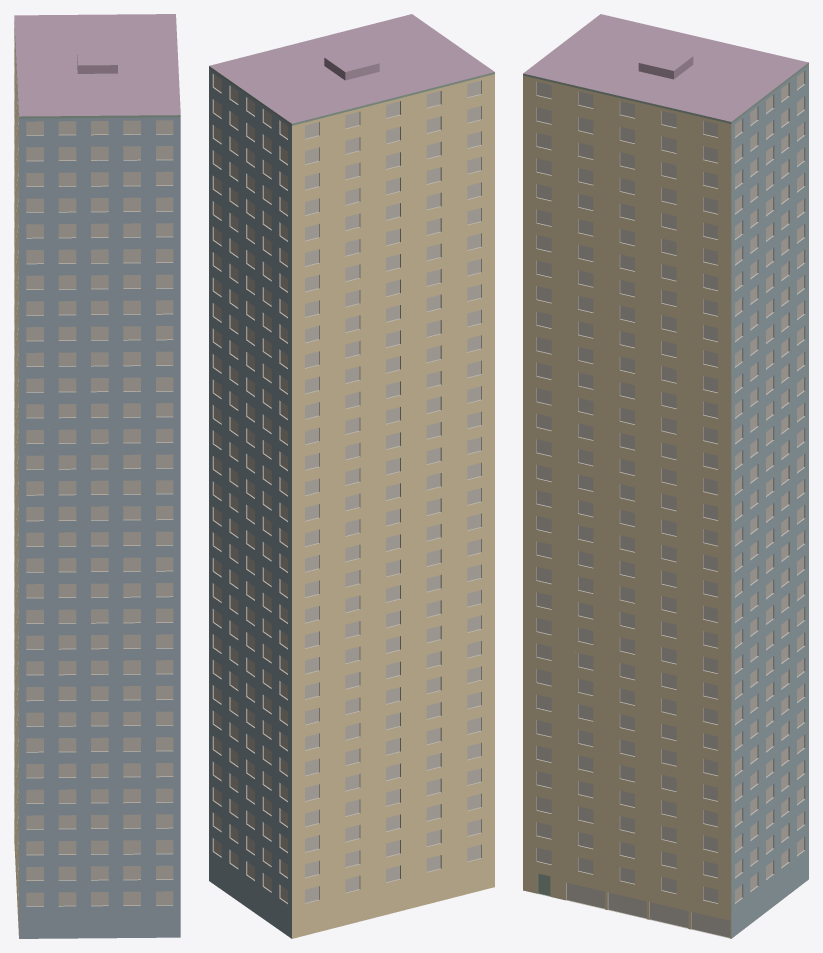
The model's file is doitt-982383__lod_0.glb.
3 views of the same model, side by side, from view 1: azimuth 30°, elevation 25°; view 2: azimuth 150°, elevation 25°; view 3: azimuth 270°, elevation 25° (orthographic).
Size of the model in its own units: 32.79 by 117 by 36.68.
